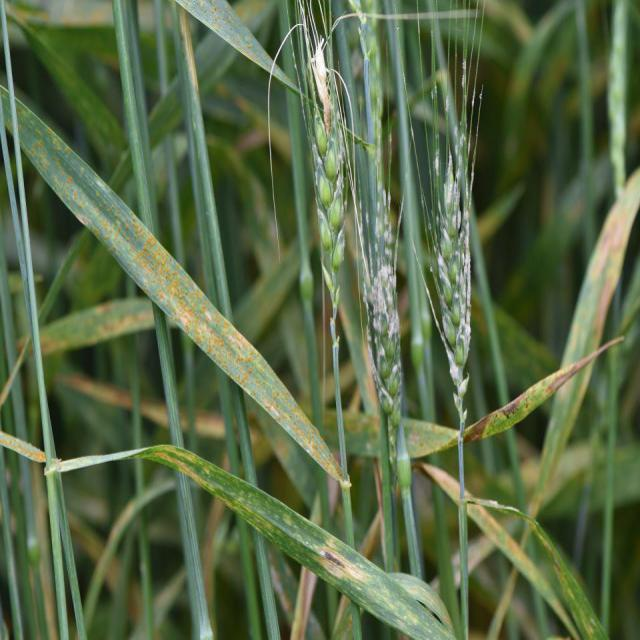wheat-powdery-mildew: (353, 142, 410, 511), (433, 155, 470, 368)
wheat-yellowrust: (16, 103, 343, 480), (54, 445, 457, 640)
